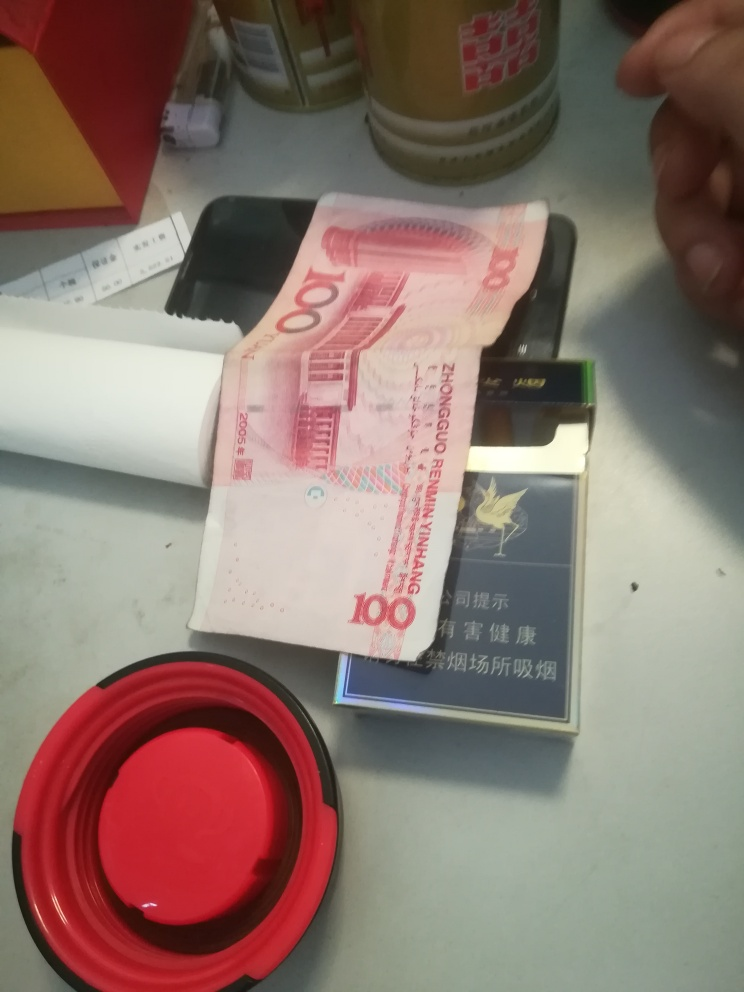rmb: (189, 190, 560, 664)
